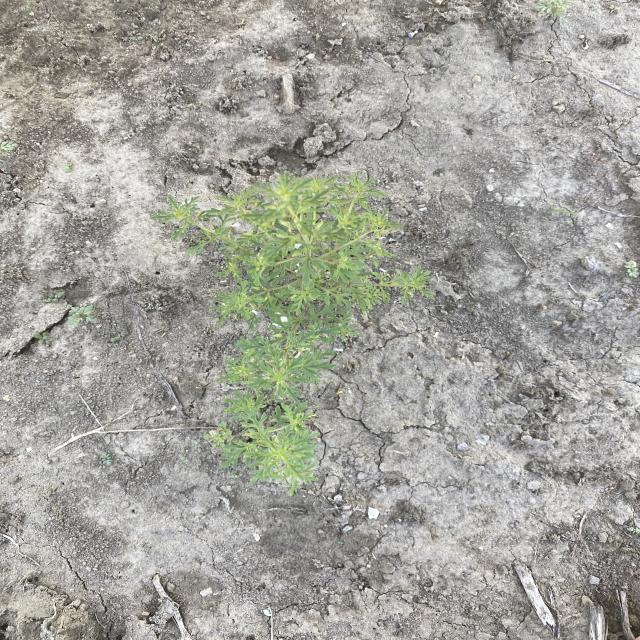Ragweed: (147, 170, 439, 500)
